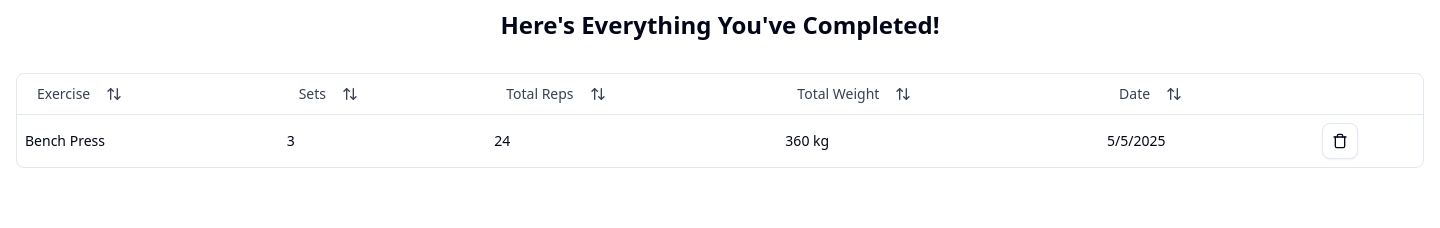
Scenario: HistoryPage › when there are completed exercises › removes the exercise when deleted
Expected: the text "Bench Press" is shown, [17,114,279,166]
Click the button named "Delete Exercise". click: {"x": 1340, "y": 140}
box: [1322,122,1358,158]
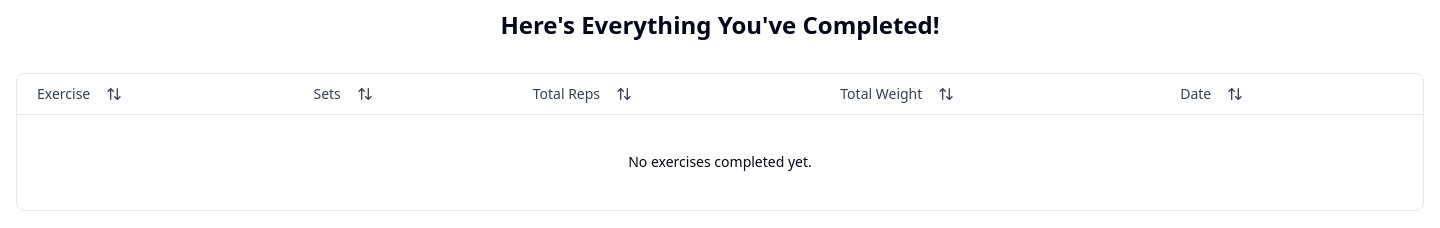
Expected: the text "No exercises completed yet." is shown, [17,114,1423,210]
